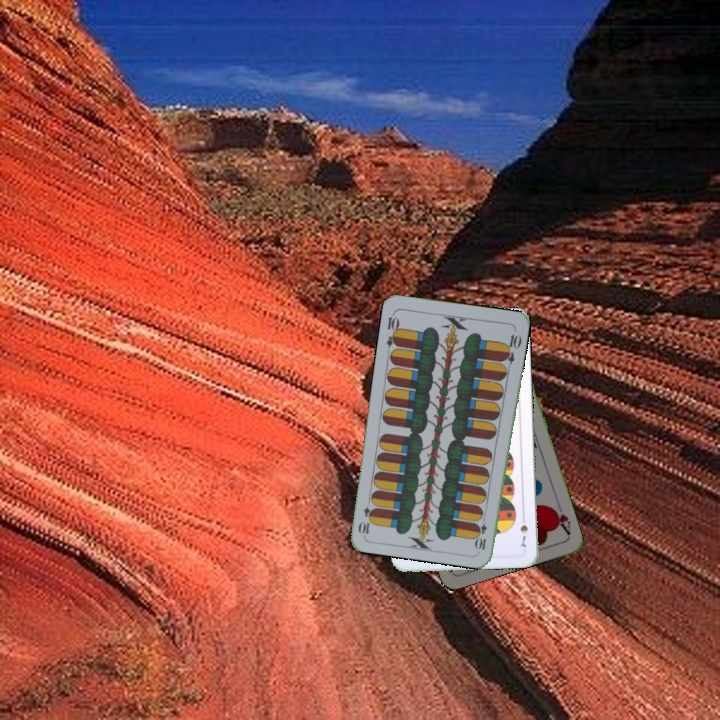E10: (382, 309, 402, 349), (473, 512, 490, 553)
HA: (548, 499, 573, 538)
S7: (516, 511, 530, 550)
